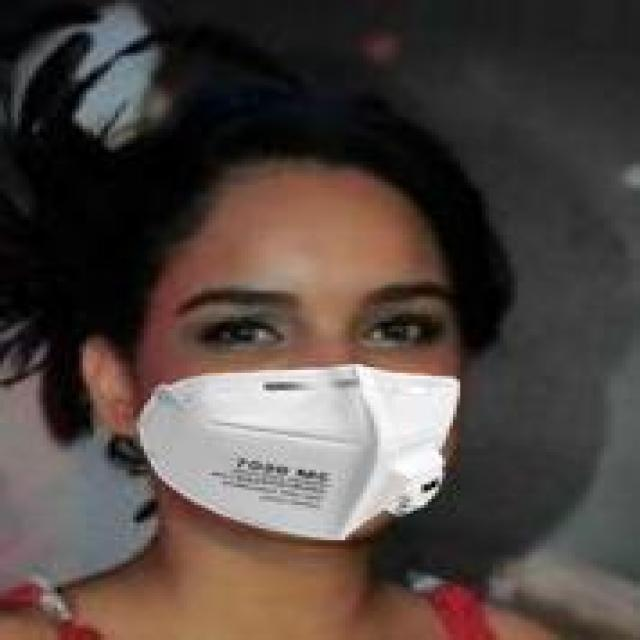mask: (54, 97, 539, 566)
